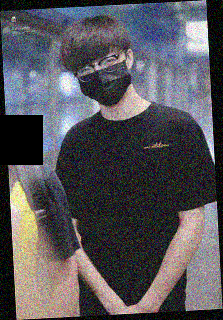with_mask: (76, 49, 133, 107)
